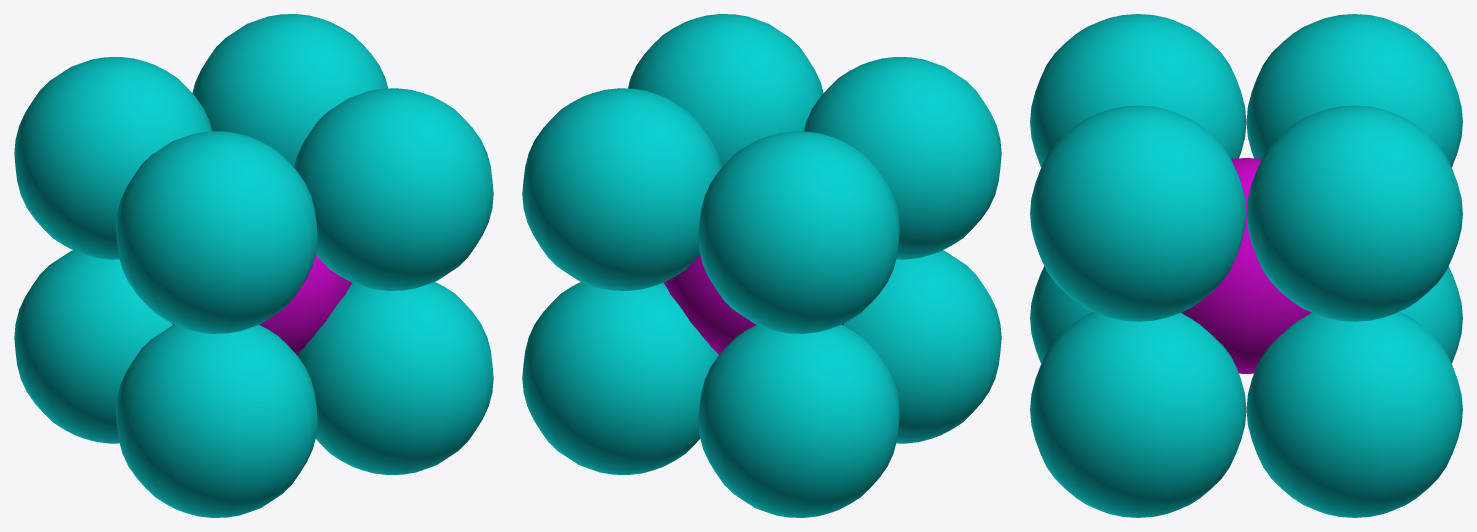
File: bccgordo_centrado.glb
3 renders of one model, left to right at view 1: azimuth 30°, elevation 25°; view 2: azimuth 150°, elevation 25°; view 3: azimuth 270°, elevation 25°, orthographic. The views are drawn at different scales.
Parts seen in each view (by area): view 1: atomo9; view 2: atomo9; view 3: atomo9.
Boxes of the visible parts, box(x1,y1,x2,y2) form: atomo9: box(14, 14, 493, 517); atomo9: box(522, 14, 1001, 517); atomo9: box(1030, 14, 1462, 517).
Size of the model in its own units: 2 by 2 by 2.
